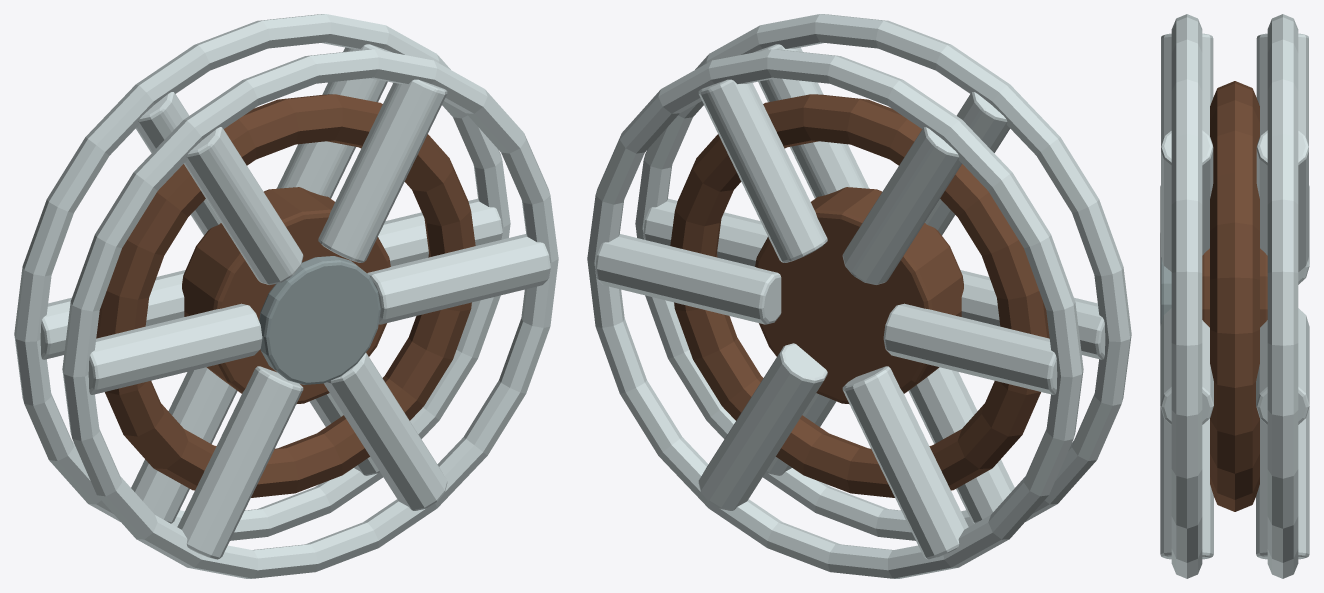
Rendered from P056_film_reel.glb.
3 renders of one model, left to right at view 1: azimuth 30°, elevation 25°; view 2: azimuth 150°, elevation 25°; view 3: azimuth 270°, elevation 25°, orthographic.
Visible parts, largest first — view 1: P056_outer_front_002, P056_film_017, P056_outer_back_003, P056_hub_004, P056_spool_core_001, P056_spoke_009, P056_spoke_006, P056_spoke_005, P056_spoke_008, P056_spoke_007, P056_spoke_010, P056_spoke_015 (+5 smaller); view 2: P056_outer_back_003, P056_film_017, P056_outer_front_002, P056_spool_core_001, P056_spoke_015, P056_spoke_012, P056_spoke_011, P056_spoke_014, P056_spoke_016, P056_spoke_013, P056_spoke_009, P056_spoke_006 (+4 smaller); view 3: P056_film_017, P056_outer_back_003, P056_outer_front_002, P056_spoke_010, P056_spoke_016, P056_spoke_006, P056_spoke_012, P056_spoke_005, P056_spoke_011, P056_spoke_007, P056_spoke_013, P056_spool_core_001 (+2 smaller).
Part boxes in pixels (bbox=[...]): P056_outer_front_002: bbox=[62, 49, 558, 578]; P056_film_017: bbox=[96, 94, 475, 497]; P056_outer_back_003: bbox=[14, 14, 510, 540]; P056_hub_004: bbox=[259, 256, 380, 384]; P056_spool_core_001: bbox=[182, 187, 390, 404]; P056_spoke_009: bbox=[177, 366, 303, 559]; P056_spoke_006: bbox=[318, 79, 447, 262]; P056_spoke_005: bbox=[367, 234, 550, 324]; P056_spoke_008: bbox=[88, 303, 262, 394]; P056_spoke_007: bbox=[184, 127, 303, 284]; P056_spoke_010: bbox=[324, 353, 447, 510]; P056_spoke_015: bbox=[131, 367, 237, 523]; P056_outer_back_003: bbox=[587, 49, 1083, 578]; P056_film_017: bbox=[670, 94, 1049, 497]; P056_outer_front_002: bbox=[635, 14, 1131, 540]; P056_spool_core_001: bbox=[755, 187, 963, 404]; P056_spoke_015: bbox=[842, 366, 968, 559]; P056_spoke_012: bbox=[698, 79, 827, 262]; P056_spoke_011: bbox=[595, 234, 781, 324]; P056_spoke_014: bbox=[883, 303, 1057, 394]; P056_spoke_016: bbox=[698, 343, 827, 510]; P056_spoke_013: bbox=[842, 127, 961, 284]; P056_spoke_009: bbox=[908, 367, 1014, 523]; P056_spoke_006: bbox=[753, 44, 868, 198]; P056_film_017: bbox=[1210, 81, 1259, 511]; P056_outer_back_003: bbox=[1267, 14, 1298, 578]; P056_outer_front_002: bbox=[1171, 14, 1202, 578]; P056_spoke_010: bbox=[1160, 407, 1213, 559]; P056_spoke_016: bbox=[1256, 407, 1309, 559]; P056_spoke_006: bbox=[1161, 130, 1213, 271]; P056_spoke_012: bbox=[1256, 130, 1308, 271]; P056_spoke_005: bbox=[1160, 308, 1213, 424]; P056_spoke_011: bbox=[1256, 308, 1309, 424]; P056_spoke_007: bbox=[1161, 33, 1213, 145]; P056_spoke_013: bbox=[1256, 33, 1308, 145]; P056_spool_core_001: bbox=[1202, 248, 1267, 327].
Size of the model in its own units: 0.296 by 0.296 by 0.078.
